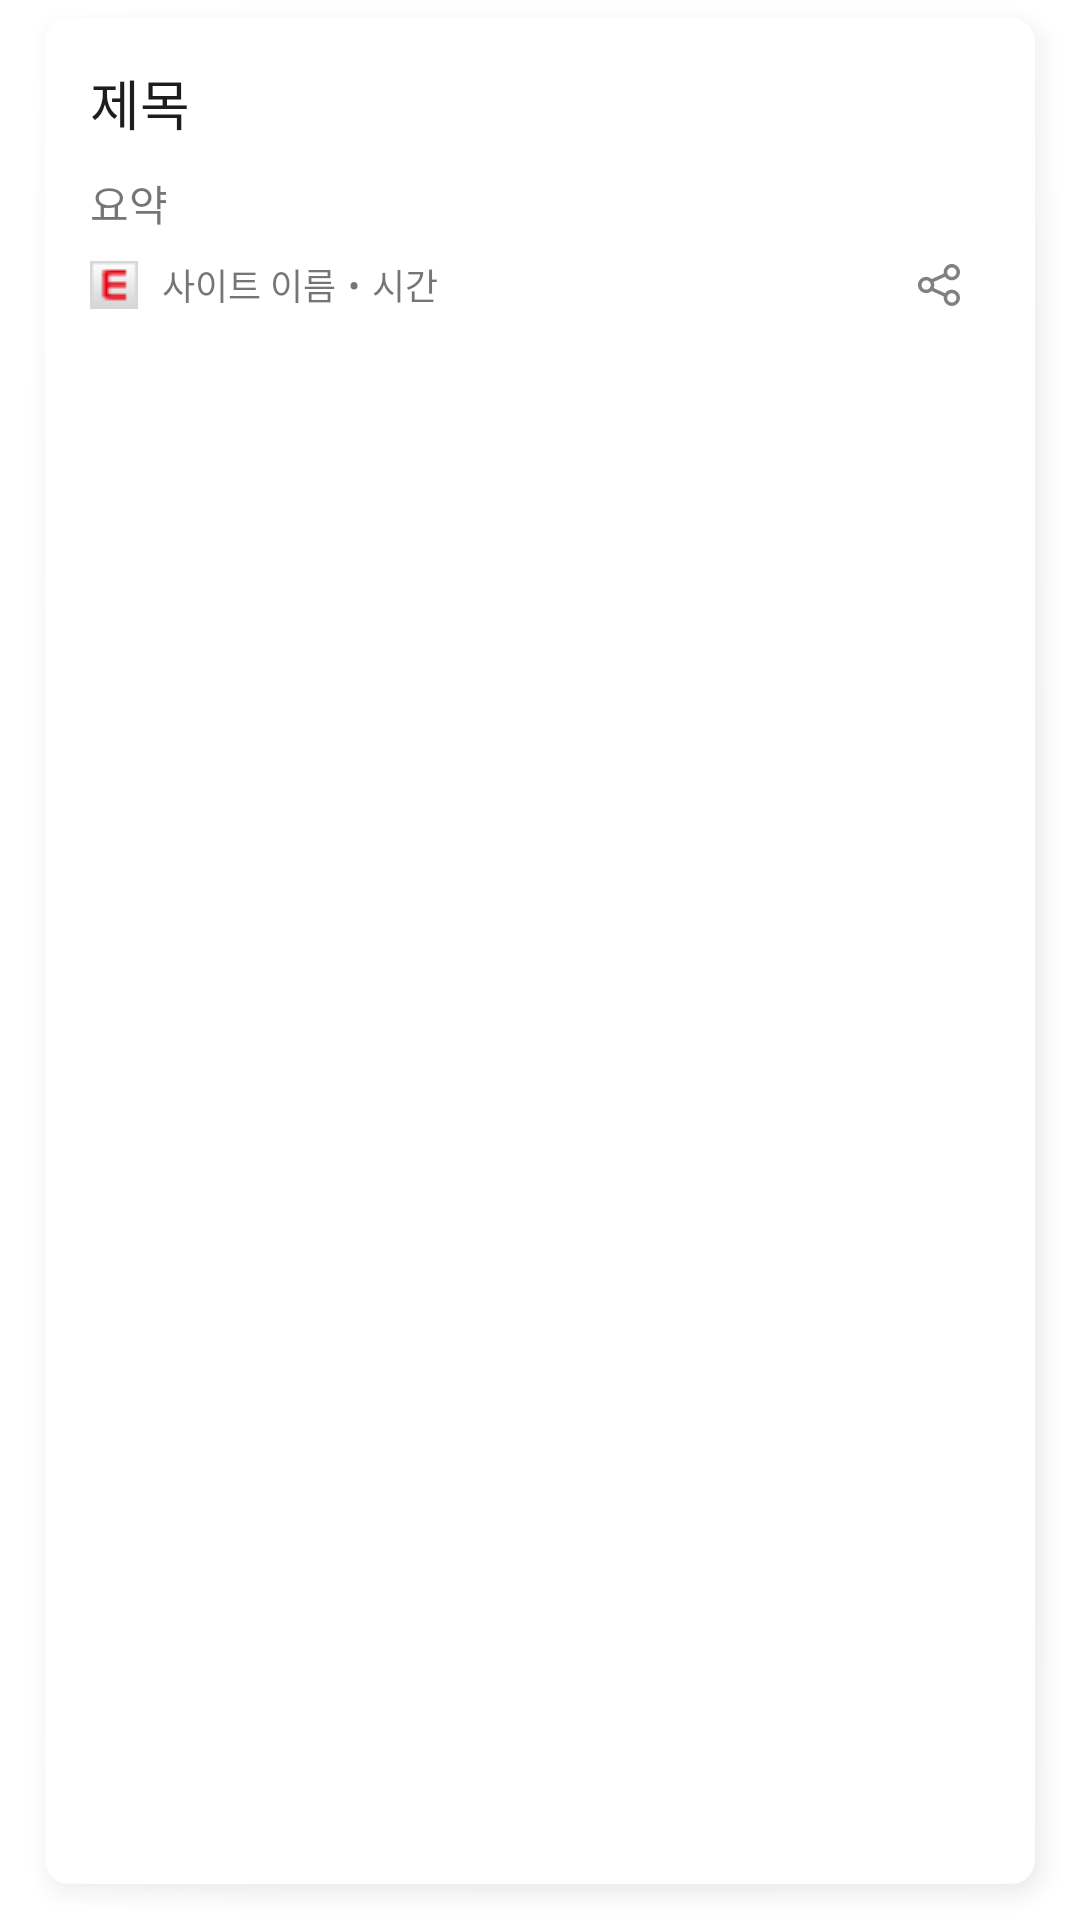

Icon bounding boxes for this 1080×1920 phone screenshot, format bbox=[x1, y1, x2, y2]:
share: bbox=[918, 264, 960, 306]
